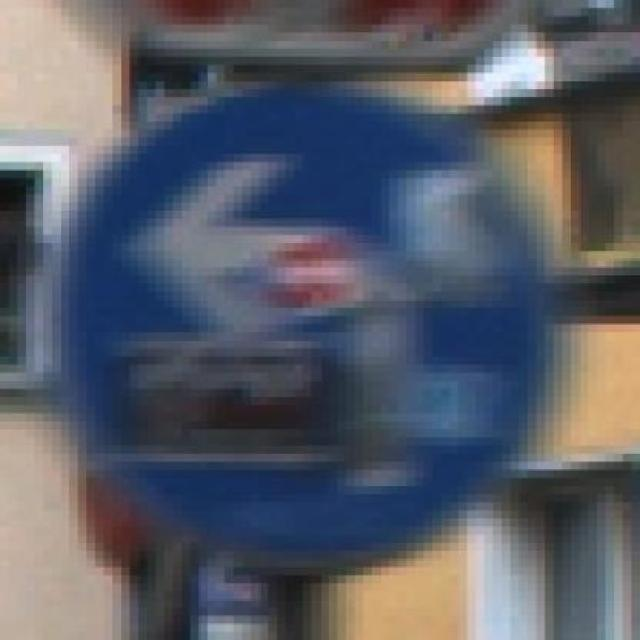Turn left ahead: (61, 64, 562, 576)
